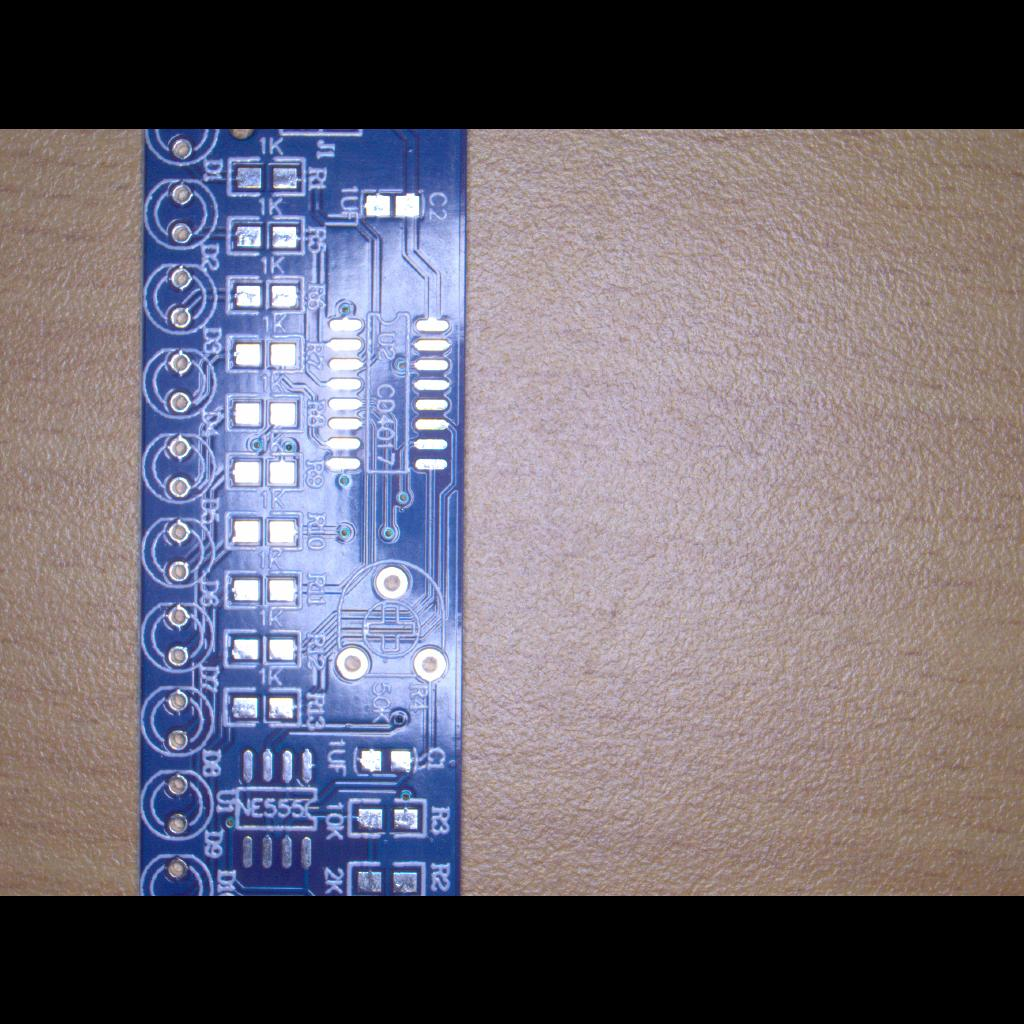NG: (321, 300, 455, 480), (226, 744, 326, 872), (220, 390, 308, 436), (220, 683, 304, 731), (346, 737, 430, 785), (220, 626, 306, 672), (344, 794, 430, 840), (225, 155, 309, 201), (224, 272, 308, 318), (222, 509, 306, 555), (221, 566, 305, 612), (224, 331, 306, 377), (224, 448, 306, 494), (224, 213, 308, 257), (350, 183, 434, 227), (343, 858, 429, 896)
